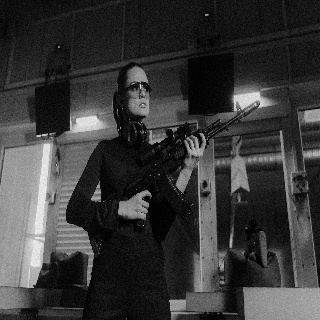rifle: (85, 100, 262, 257)
